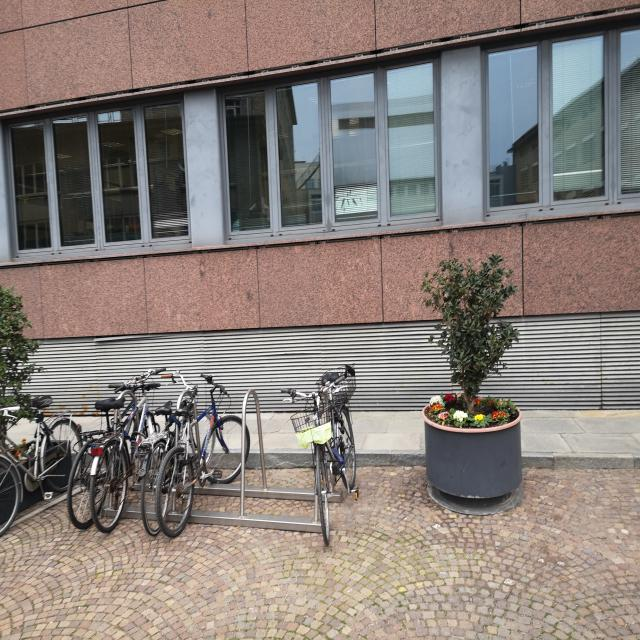Bicycle: (94, 356, 188, 558), (160, 372, 265, 551), (61, 318, 138, 542), (0, 363, 99, 527), (282, 362, 366, 532), (137, 380, 207, 530)
